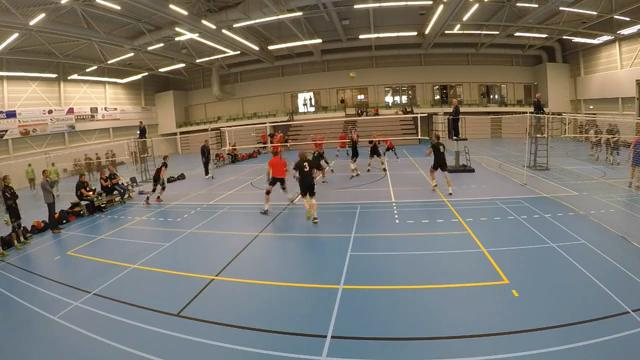Player: (293, 151, 321, 223), (260, 152, 287, 214), (426, 134, 451, 194), (143, 155, 168, 204), (311, 136, 333, 172), (367, 133, 386, 171), (383, 138, 398, 159), (336, 132, 349, 156), (272, 131, 283, 153)
Set: (342, 124, 363, 182)
ball: (349, 72, 356, 78)
